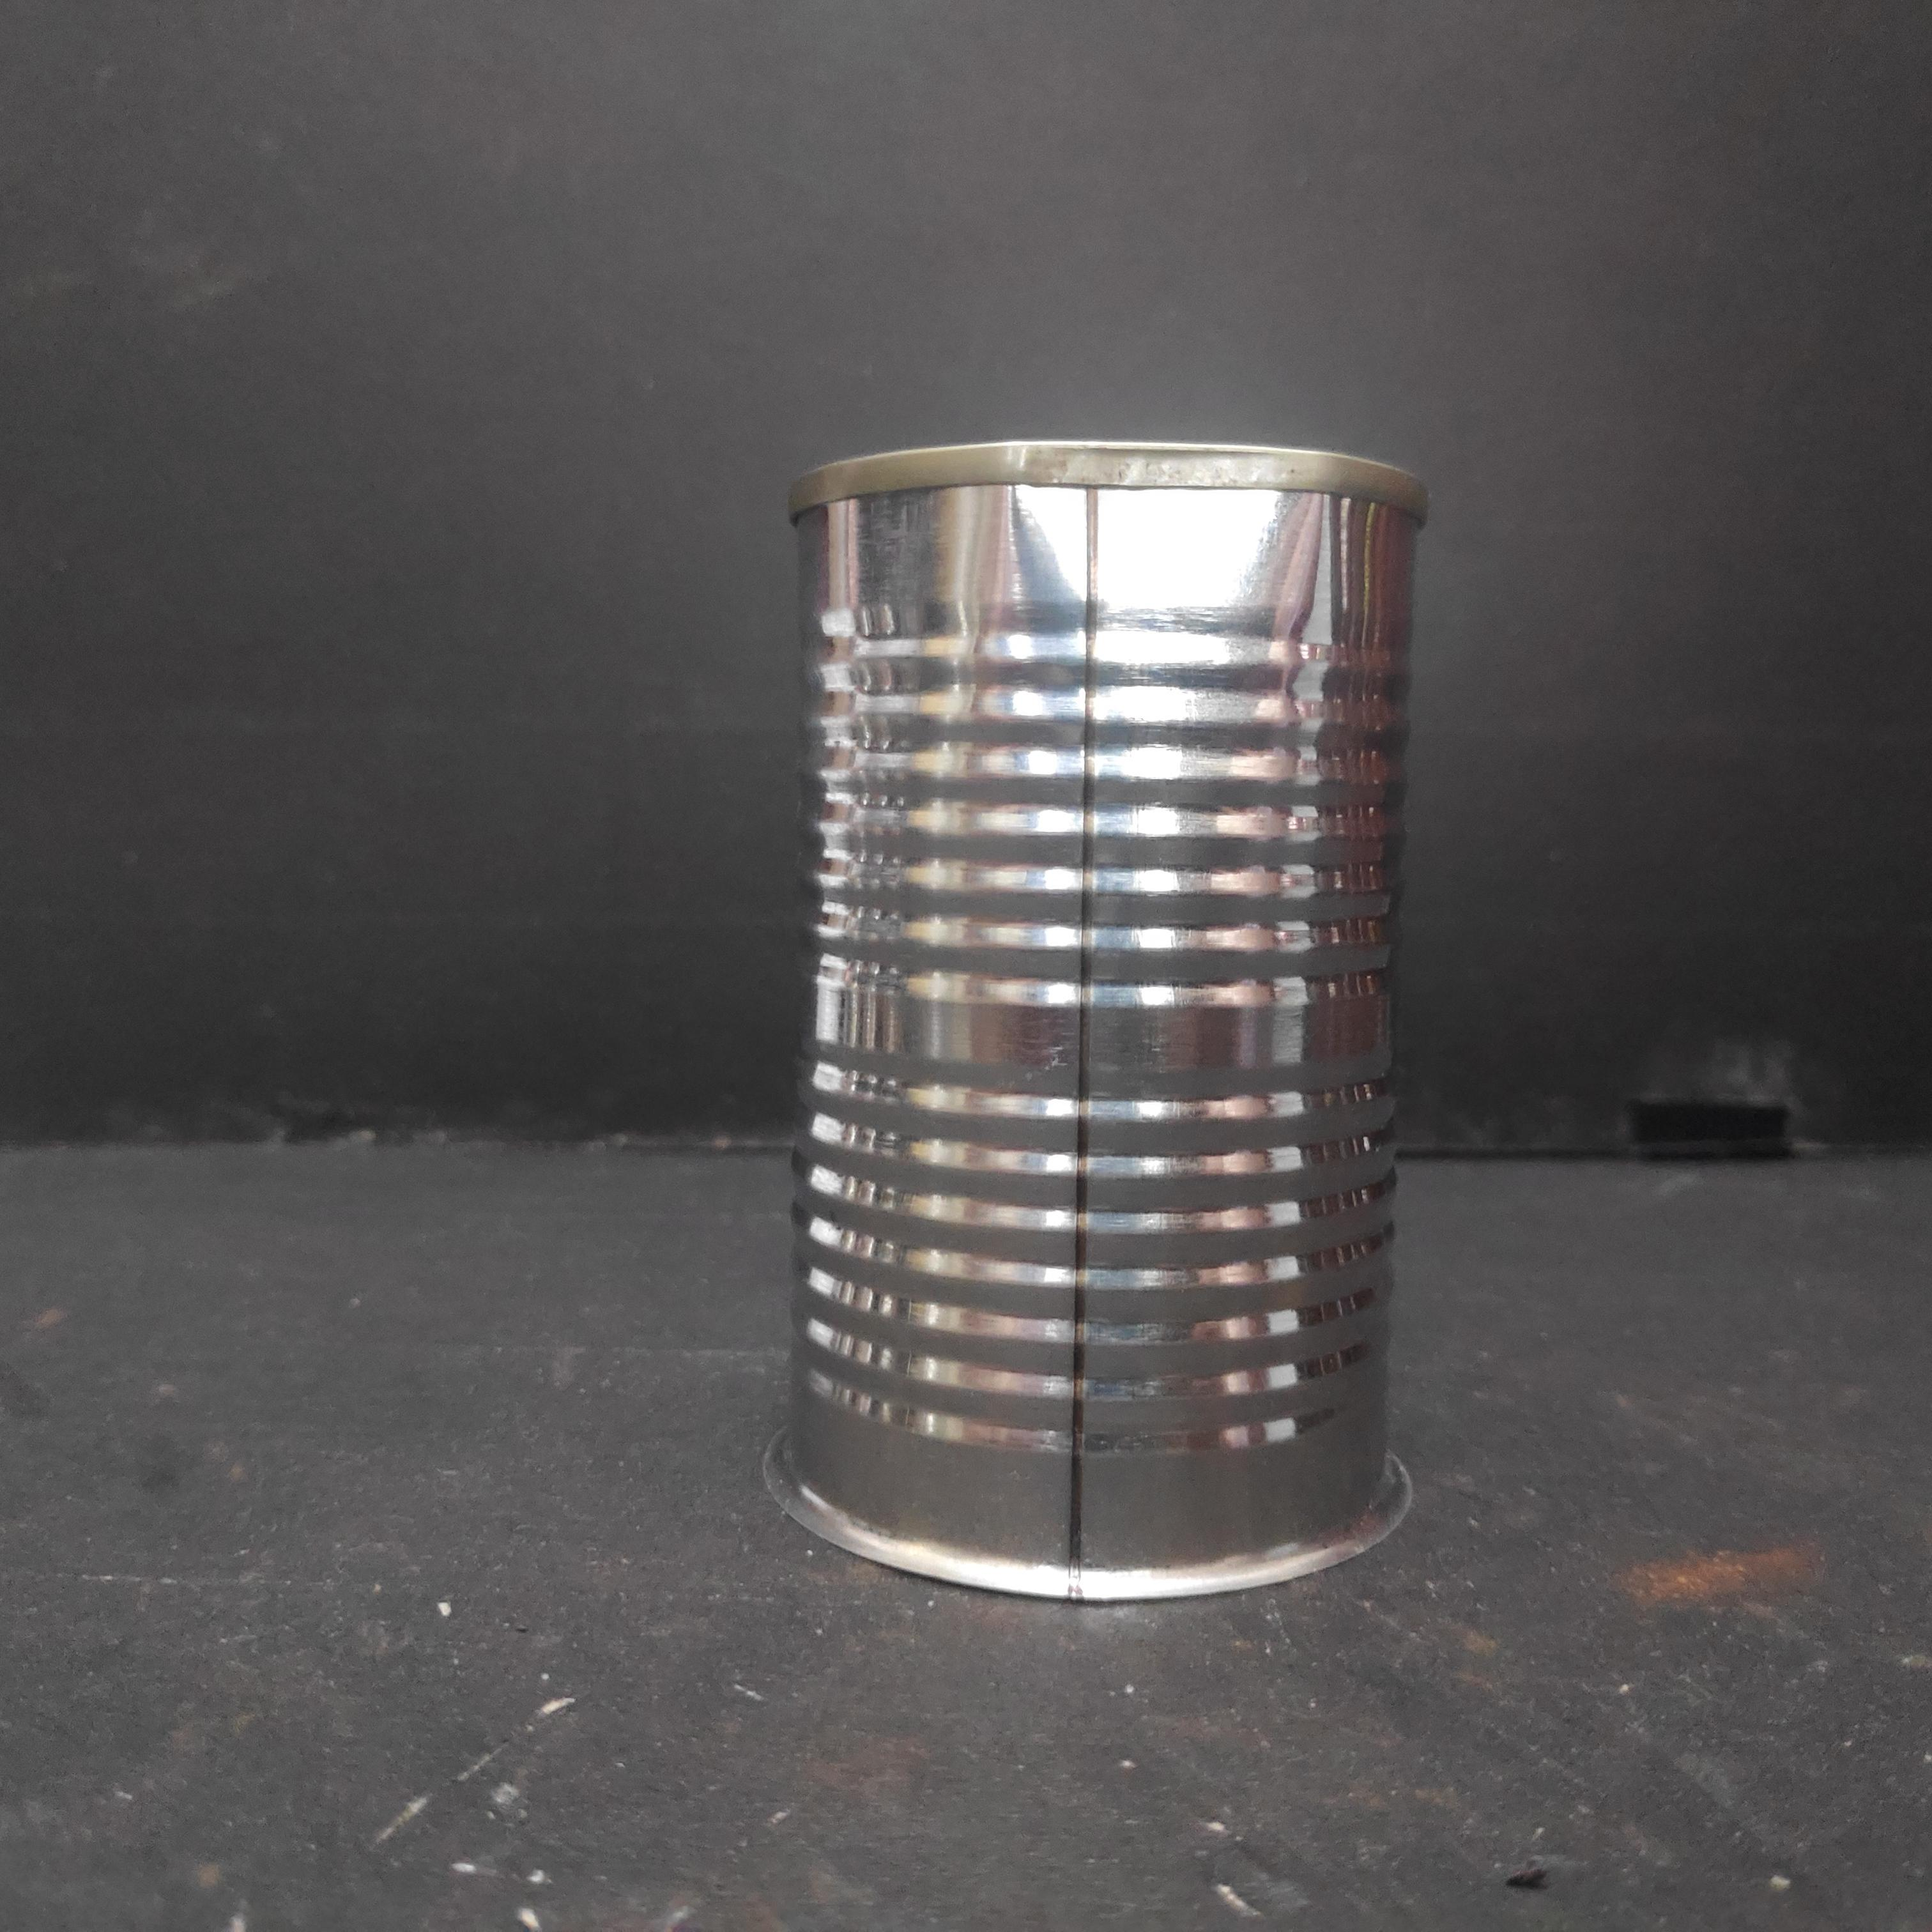Minor Defect: (780, 435, 1438, 1605)
